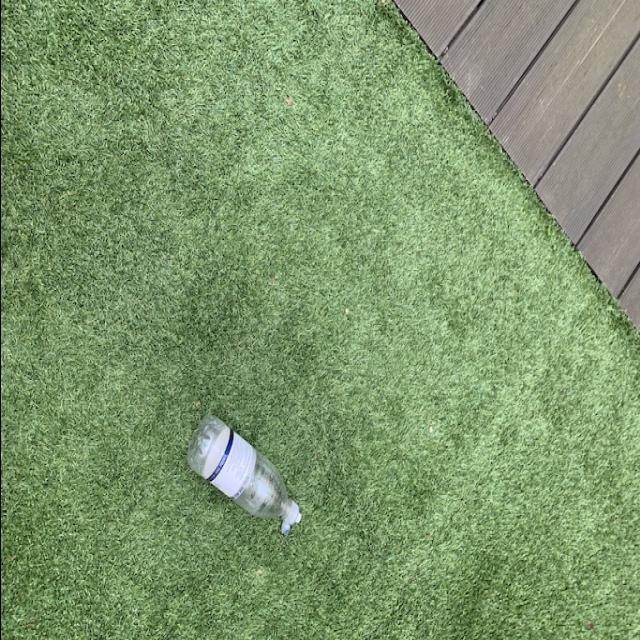PET: (180, 413, 303, 535)
